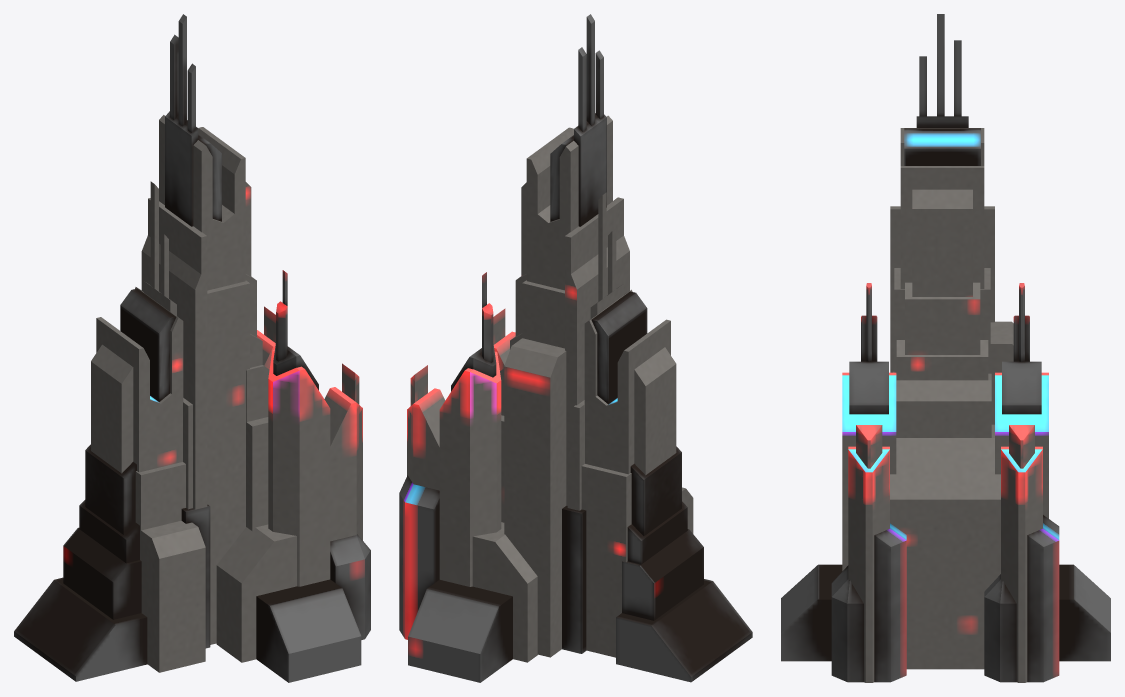
Rendered from SM_BackgroundBuilding_017.fbx.
The picture shows the model from 3 angles, left to right: view 1: azimuth 30°, elevation 25°; view 2: azimuth 150°, elevation 25°; view 3: azimuth 270°, elevation 25°; orthographic projection.
Parts seen in each view (by area): view 1: SM_BackgroundBuilding_017_LOD0; view 2: SM_BackgroundBuilding_017_LOD0; view 3: SM_BackgroundBuilding_017_LOD0.
Boxes of the visible parts, x1=… form: SM_BackgroundBuilding_017_LOD0: x1=14, y1=14, x2=370, y2=682; SM_BackgroundBuilding_017_LOD0: x1=399, y1=14, x2=752, y2=682; SM_BackgroundBuilding_017_LOD0: x1=781, y1=14, x2=1110, y2=682.
Bounding box in the file's own units: 2392 × 2515 × 5068.
Materials: 1 (1 with a texture image).
